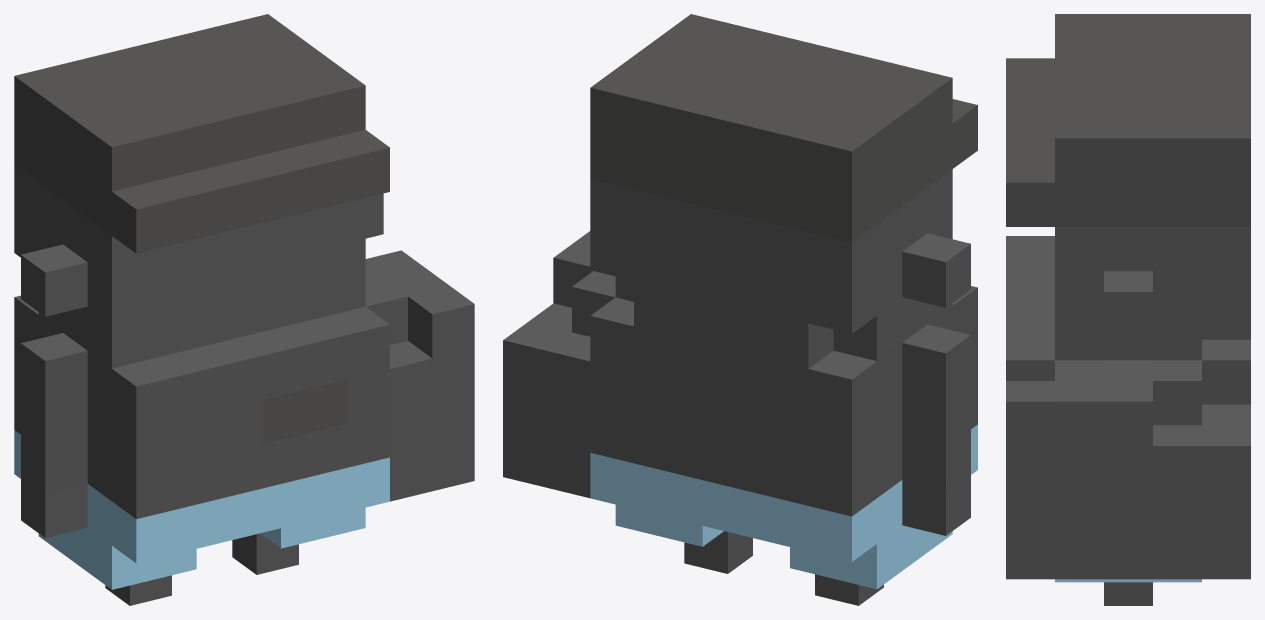
File: chr_mailman.obj
3 renders of one model, left to right at view 1: azimuth 30°, elevation 25°; view 2: azimuth 150°, elevation 25°; view 3: azimuth 270°, elevation 25°, orthographic. The views are drawn at different scales.
Bounding box in the file's own units: 9 × 11 × 5.
